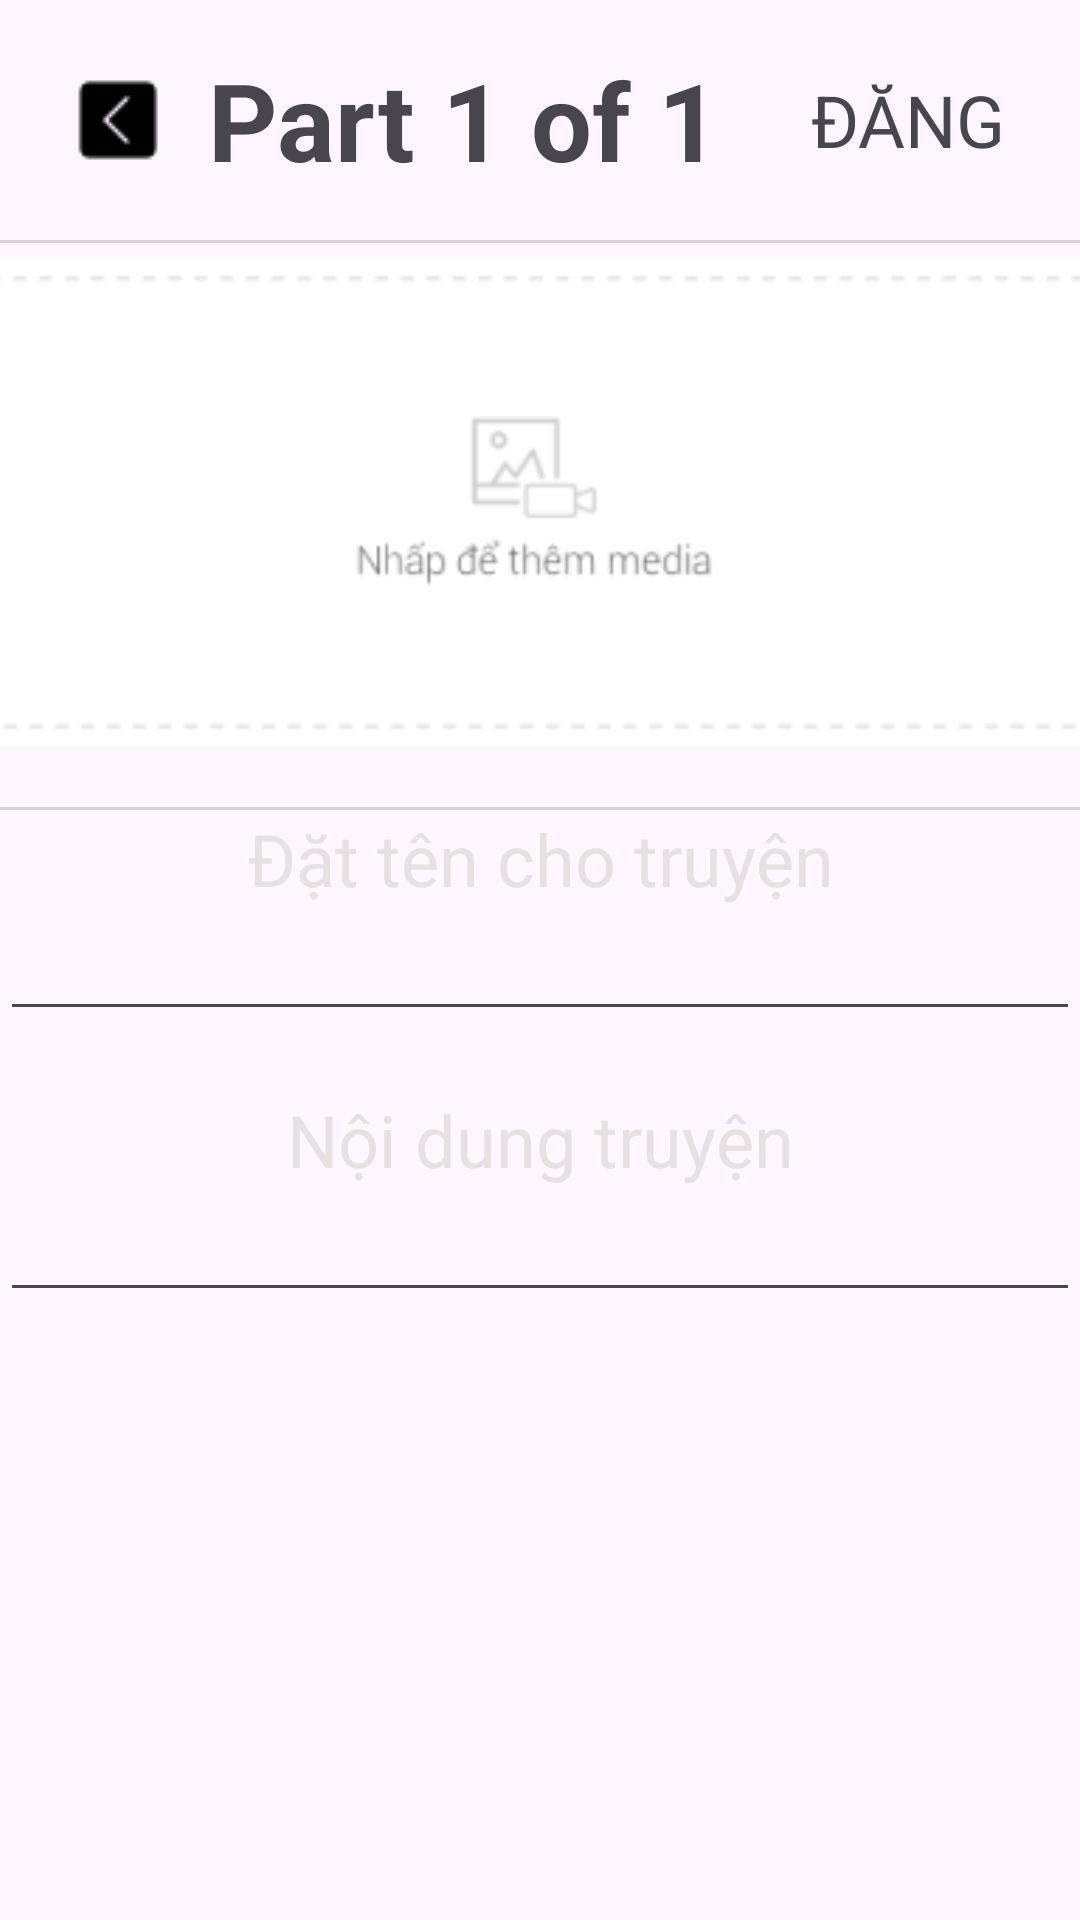

Icons on this 1080*1920 Android screen, each with its box as region(x1, y1, x2, y2):
prevblack: region(78, 80, 158, 160)
